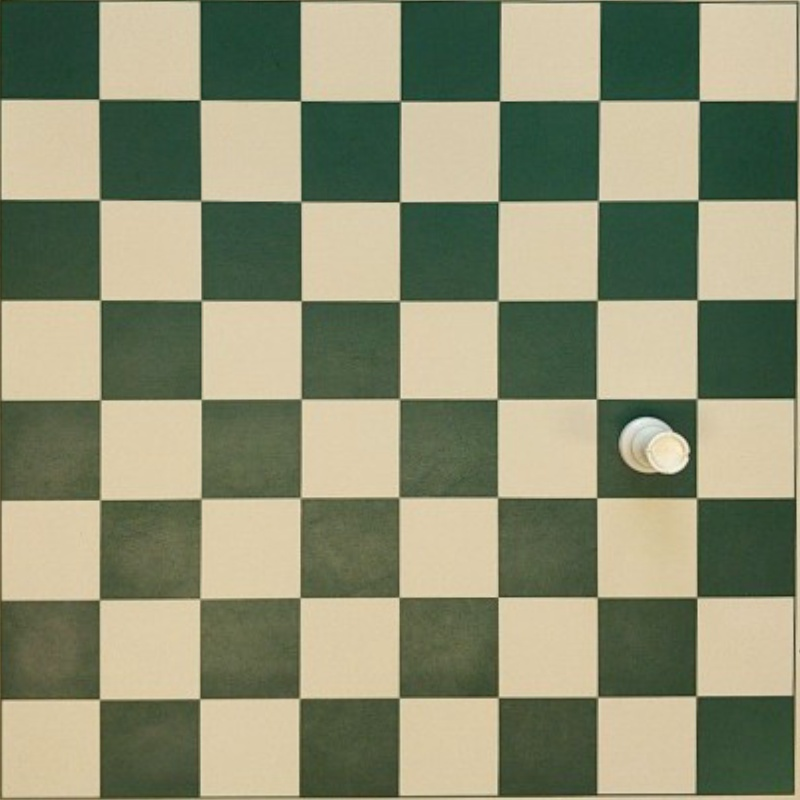white-rook: (619, 416, 691, 476)
